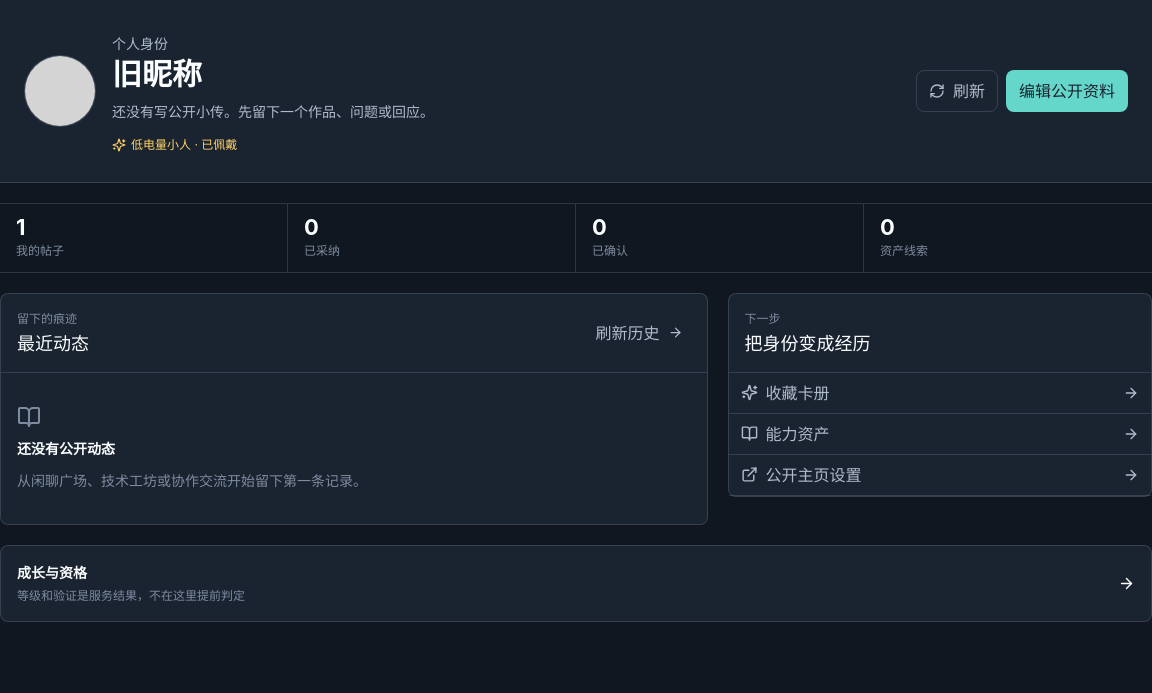
Scenario: ZeroCityPersonalHub › uses the collection catalog name and explicitly labels an equipped background
This screenshot has width=1152, height=693.
Click the button with class "city-personal-primary": (1067, 91) [1006,70,1128,112]
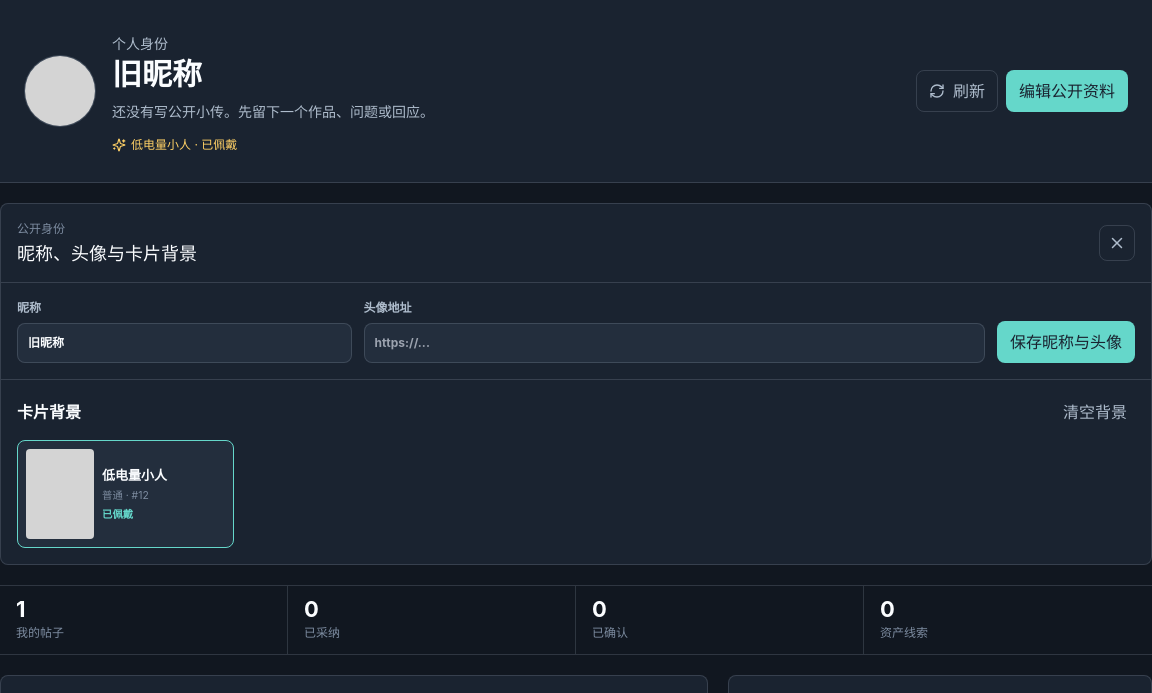
Check: the element with class "city-personal-card-signal" shows "低电量小人", box [131,137,237,152]
Check: the button "低电量小人 普通 · #12 已佩戴" is shown, box [17,440,234,548]
